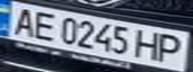0: (54, 15, 78, 46)
2: (75, 18, 96, 51)
4: (90, 20, 115, 54)
5: (112, 24, 136, 56)
A: (6, 6, 39, 36)
E: (27, 9, 60, 40)
H: (133, 28, 163, 61)
P: (154, 31, 190, 64)
